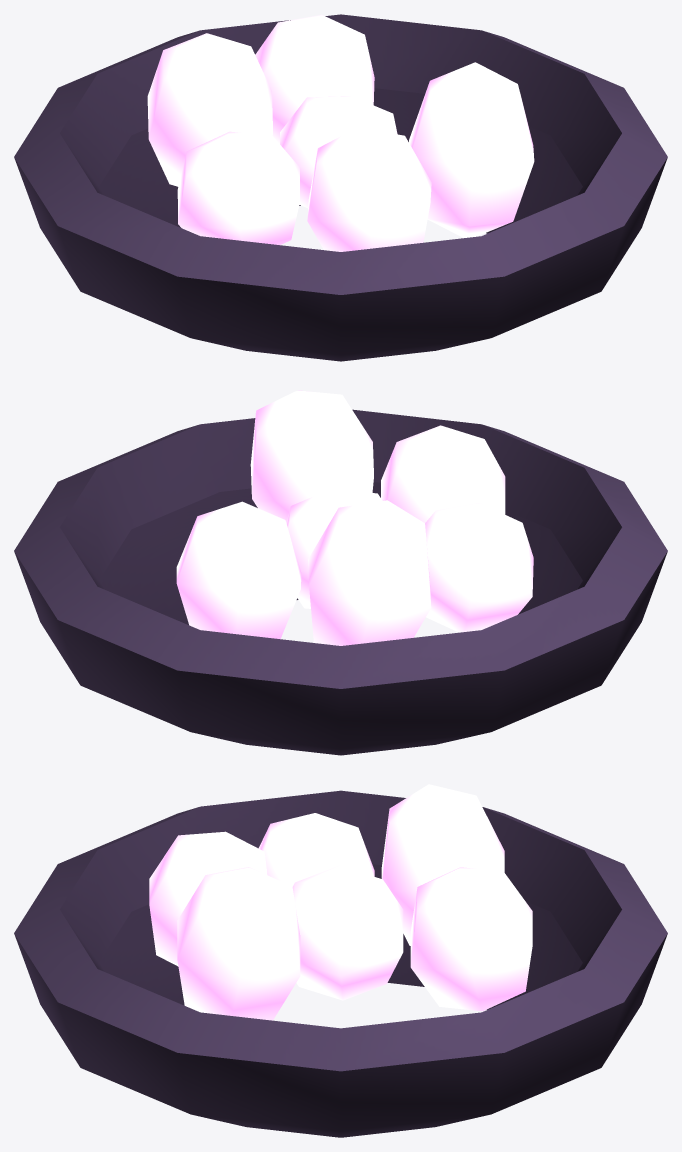
Rendered from hive_rock_c.glb.
3 renders of one model, top to bottom at view 1: azimuth 30°, elevation 25°; view 2: azimuth 150°, elevation 25°; view 3: azimuth 270°, elevation 25°, orthographic.
Parts seen in each view (by area): view 1: hive_rock_c; view 2: hive_rock_c; view 3: hive_rock_c.
Boxes of the visible parts, box(x1,y1,x2,y2) form: hive_rock_c: box(14, 14, 667, 361); hive_rock_c: box(14, 390, 667, 755); hive_rock_c: box(14, 784, 667, 1137).
Size of the model in its own units: 2 by 0.7739 by 2.
